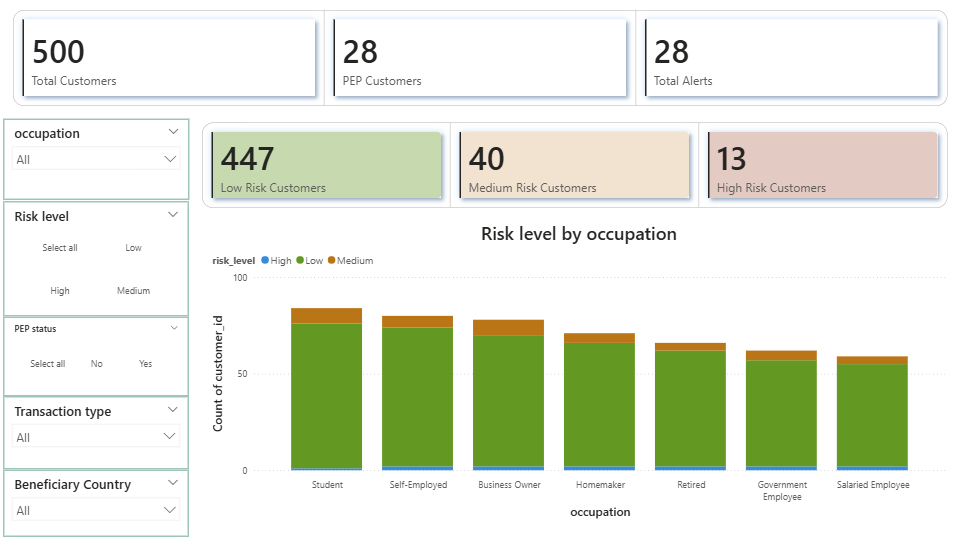

This screenshot's page, from the dashboard's own definition file:
{"tool":"powerbi","page":{"name":"Executive Summary","canvas":[1280,720],"ordinal":0},"visuals":[{"type":"cardVisual","fields":{"Data":["aml_monitoring customer_risk_summary.Low Risk Customers","aml_monitoring customer_risk_summary.Medium Risk Customers","aml_monitoring customer_risk_summary.High Risk Customers"]},"box":[252,150,1028,148],"z":0},{"type":"cardVisual","fields":{"Data":["aml_monitoring customer_risk_summary.Total Customers","aml_monitoring customer_risk_summary.PEP Customers","aml_monitoring customer_risk_summary.Total Alerts"]},"box":[0,0,1280,162],"z":1000},{"type":"slicer","fields":{"Values":["aml_monitoring customer_risk_summary.occupation"]},"box":[3.8,162.5,248.8,108.8],"z":2000},{"type":"slicer","fields":{"Values":["aml_monitoring customer_risk_summary.risk_level"]},"box":[4,272,248,154],"z":3000},{"type":"slicer","fields":{"Values":["aml_monitoring customer_risk_summary.pep_status"]},"box":[4.4,425.6,247.8,106.7],"z":4000},{"type":"slicer","fields":{"Values":["aml_monitoring transactions.transaction_type"]},"box":[4.4,532.2,247.8,97.8],"z":5000},{"type":"slicer","fields":{"Values":["aml_monitoring transactions.beneficiary_country"]},"box":[4,630,248,90],"z":6000},{"type":"columnChart","title":"Risk level by occupation","fields":{"Category":["aml_monitoring customer_risk_summary.occupation"],"Series":["aml_monitoring customer_risk_summary.risk_level"],"Y":["Count(aml_monitoring customer_risk_summary.customer_id)"]},"box":[278,298,988,402],"z":6001}]}

Visuals, with their boxes in screenshot pixels (x1, y1, x2, y2), scaled from the page's 1280x720 canvas onto the 958x537 screenshot:
cardVisual - aml_monitoring customer_risk_summary.Low Risk Customers x aml_monitoring customer_risk_summary.Medium Risk Customers: 189:112:957:222
cardVisual - aml_monitoring customer_risk_summary.Total Customers x aml_monitoring customer_risk_summary.PEP Customers: 0:0:957:121
slicer - aml_monitoring customer_risk_summary.occupation: 3:121:189:202
slicer - aml_monitoring customer_risk_summary.risk_level: 3:203:189:318
slicer - aml_monitoring customer_risk_summary.pep_status: 3:317:189:397
slicer - aml_monitoring transactions.transaction_type: 3:397:189:470
slicer - aml_monitoring transactions.beneficiary_country: 3:470:189:536
"Risk level by occupation" columnChart: 208:222:948:522
